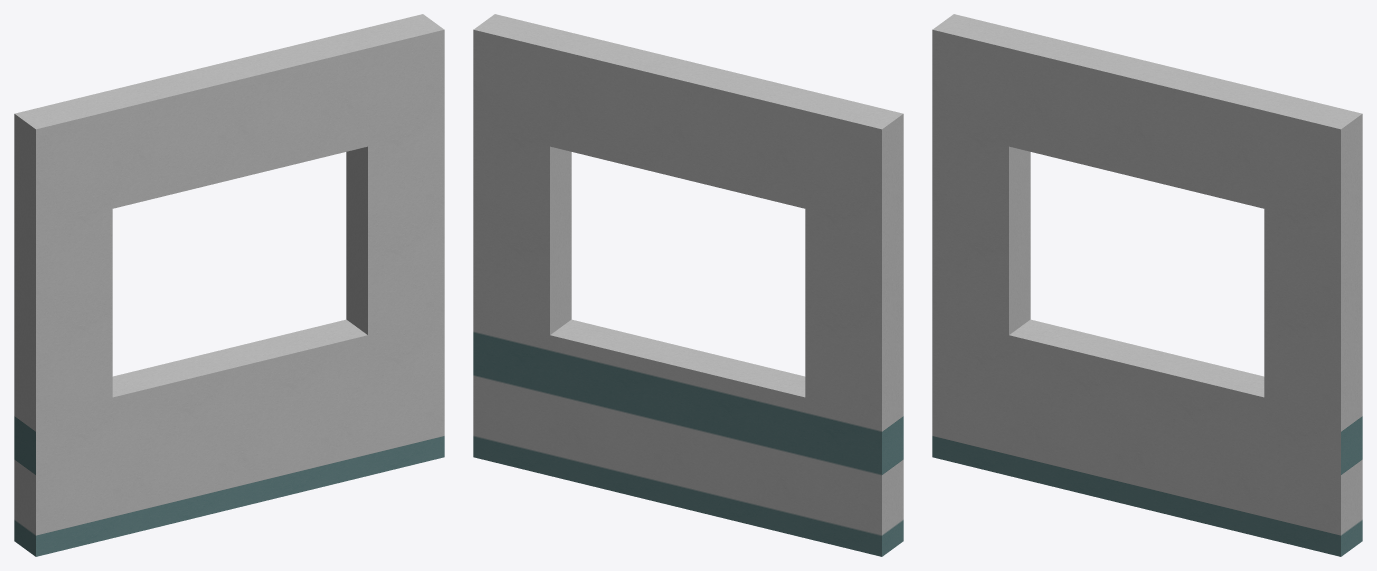
File: wall big window2.FBX
3 views of the same model, side by side, from view 1: azimuth 30°, elevation 25°; view 2: azimuth 150°, elevation 25°; view 3: azimuth 330°, elevation 25° (orthographic).
Parts seen in each view (by area): view 1: wall big window2; view 2: wall big window2; view 3: wall big window2.
Boxes of the visible parts, x1,y1,x2,y2 form: wall big window2: (14, 14, 444, 556); wall big window2: (473, 14, 903, 556); wall big window2: (932, 14, 1362, 556).
Bounding box in the file's own units: 110 × 10 × 110.
